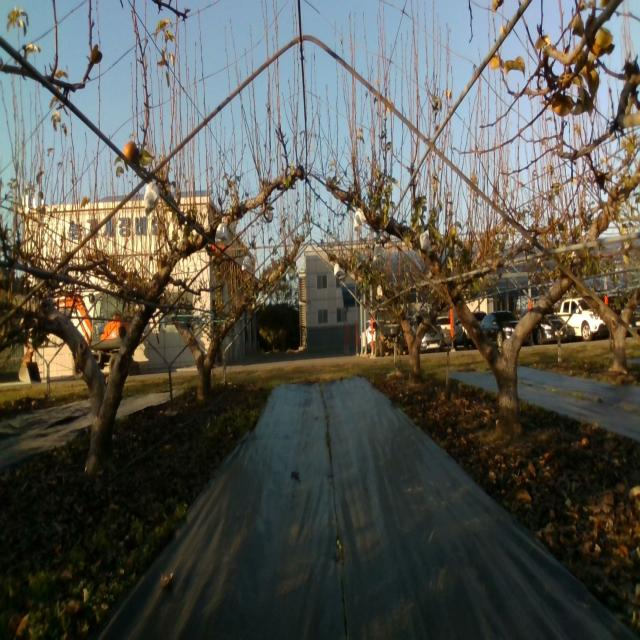pearbags: (144, 179, 161, 216), (215, 218, 228, 244), (419, 232, 433, 252)
